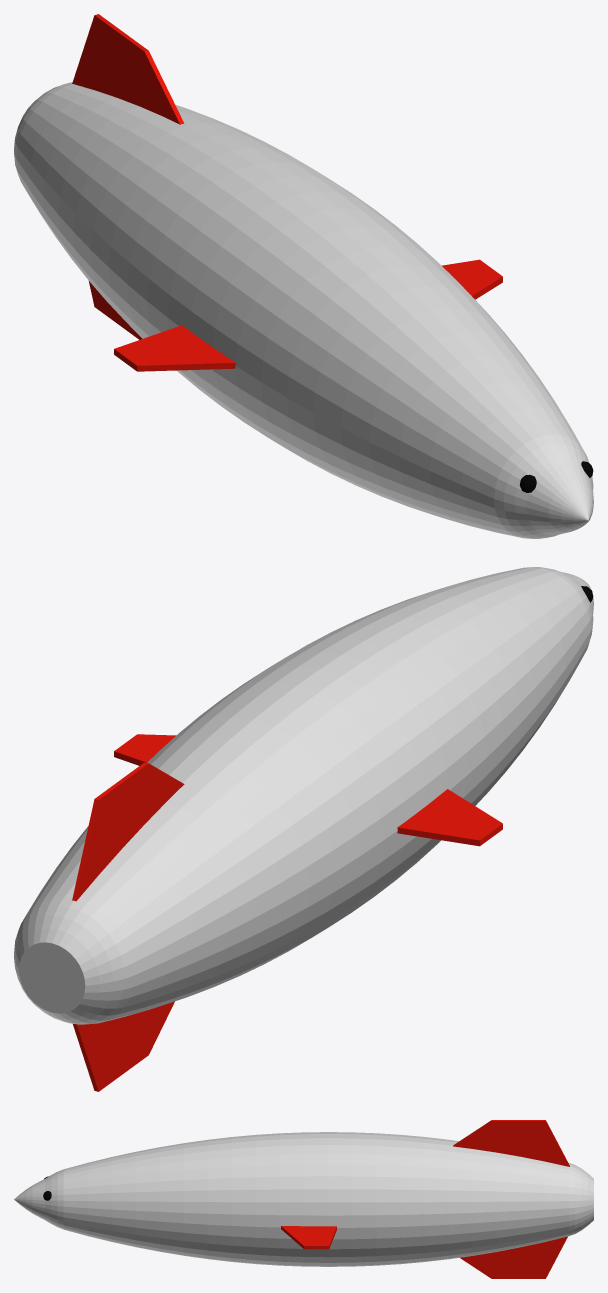
The model's file is missile2.fbx.
The picture shows the model from 3 angles, top to bottom: view 1: azimuth 30°, elevation 25°; view 2: azimuth 150°, elevation 25°; view 3: azimuth 270°, elevation 25°; orthographic projection. The views are drawn at different scales.
Parts seen in each view (by area): view 1: Cylinder, Cube.001, Cube; view 2: Cylinder, Cube.001, Cube; view 3: Cylinder, Cube.001, Cube.
Boxes of the visible parts, x1,y1,x2,y2 form: Cylinder: (14,82,593,538); Cube.001: (72,14,184,339); Cube: (114,259,502,371); Cylinder: (14,567,593,1024); Cube.001: (72,762,184,1091); Cube: (114,734,502,846); Cylinder: (14,1132,593,1266); Cube.001: (453,1120,569,1278); Cube: (281,1226,336,1249).
Size of the model in its own units: 60.07 by 45.81 by 153.
